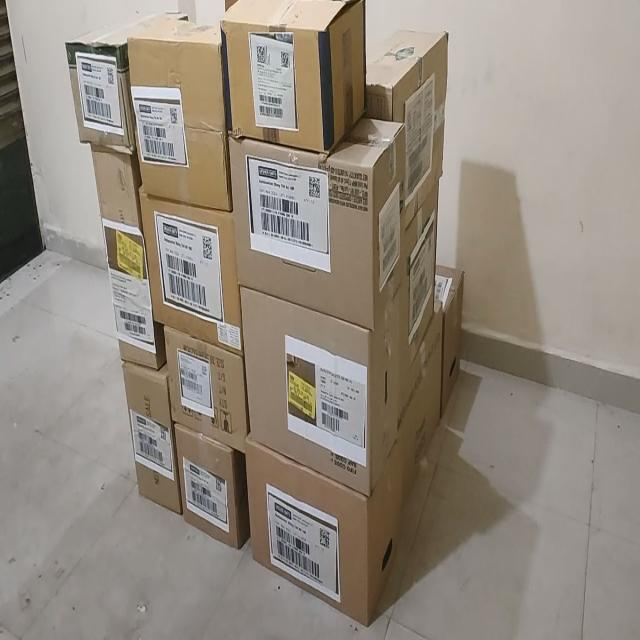BoxFace: (226, 114, 406, 330), (238, 282, 402, 496), (244, 436, 374, 626), (219, 0, 367, 154), (126, 10, 231, 212), (137, 185, 243, 354), (86, 140, 161, 368), (163, 322, 250, 461), (172, 422, 250, 550), (119, 357, 182, 515), (64, 18, 134, 155)
